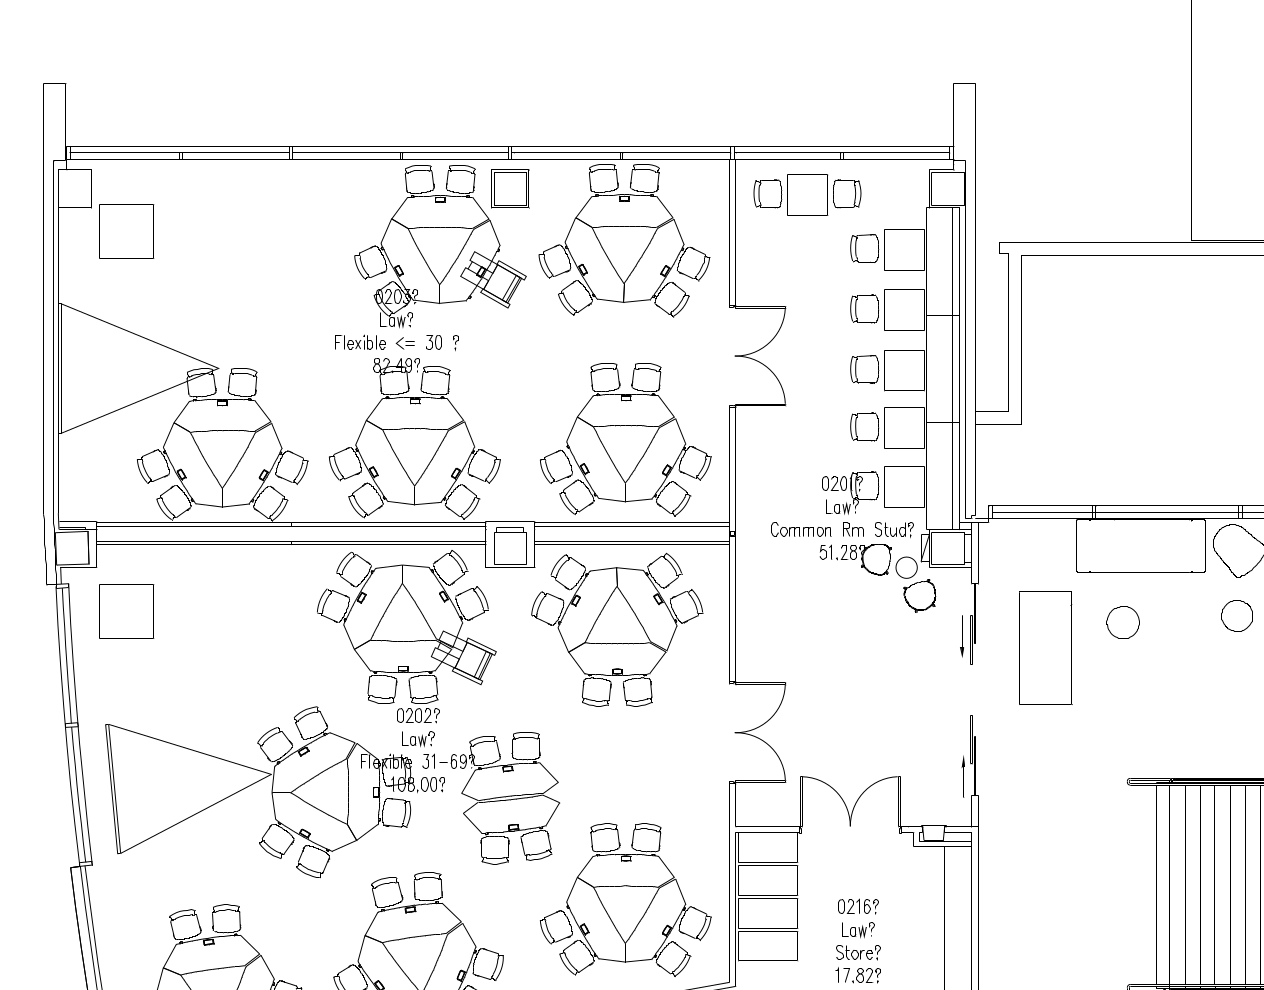door: (852, 775, 915, 835), (789, 774, 852, 834), (726, 675, 789, 735), (728, 732, 791, 792), (734, 299, 787, 358), (734, 356, 787, 415)
